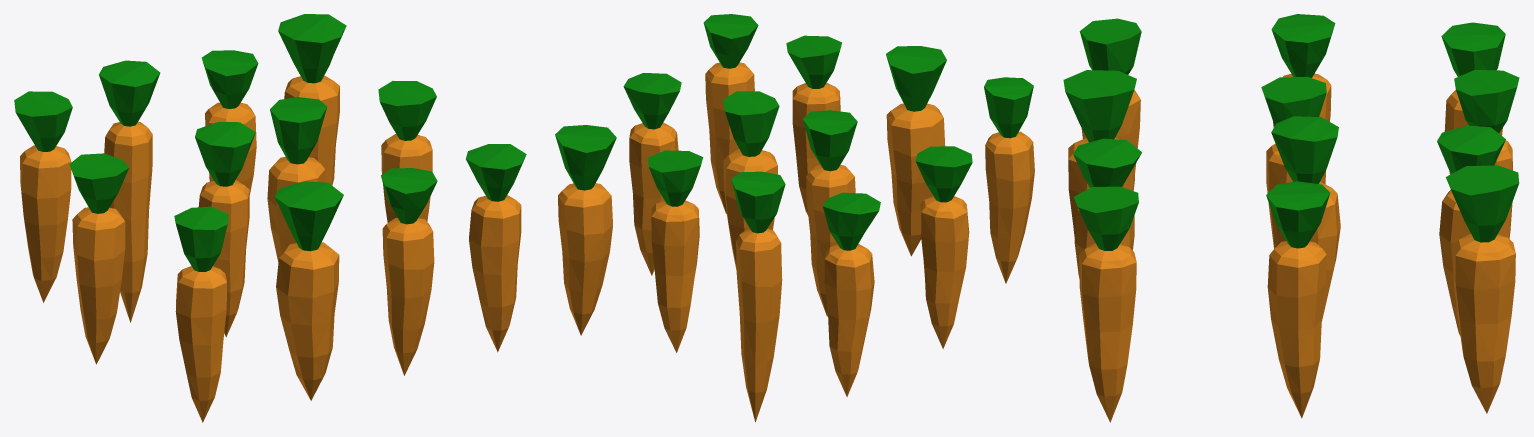
The model's file is Carot_Step3.fbx.
3 renders of one model, left to right at view 1: azimuth 30°, elevation 25°; view 2: azimuth 150°, elevation 25°; view 3: azimuth 270°, elevation 25°, orthographic. The views are drawn at different scales.
Parts seen in each view (by area): view 1: Save_Karotte_2.001; view 2: Save_Karotte_2.001; view 3: Save_Karotte_2.001.
Boxes of the visible parts, <box> form: Save_Karotte_2.001: <box>14,14,526,422</box>; Save_Karotte_2.001: <box>555,14,1034,422</box>; Save_Karotte_2.001: <box>1063,14,1519,422</box>.
Size of the model in its own units: 85.02 by 58.94 by 87.6.
